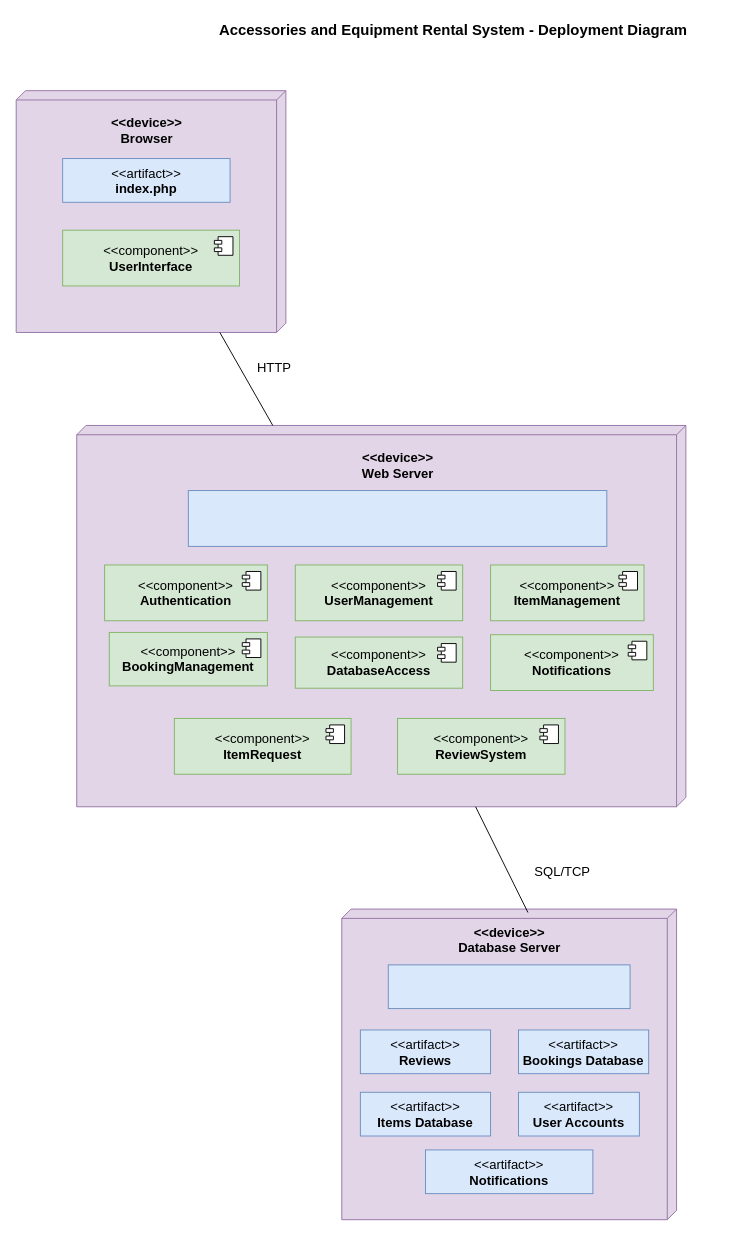
The diagram is 749 pixels wide and 1236 high, and some of its shapes have lost their labels. Here are the shapes that lost their labels. From the top down, the centre of each, then its label:
At (397,518): "<<artifact>> PHP Xampp Server Environment".
At (508,986): "<<artifact>> MySQL Server".
